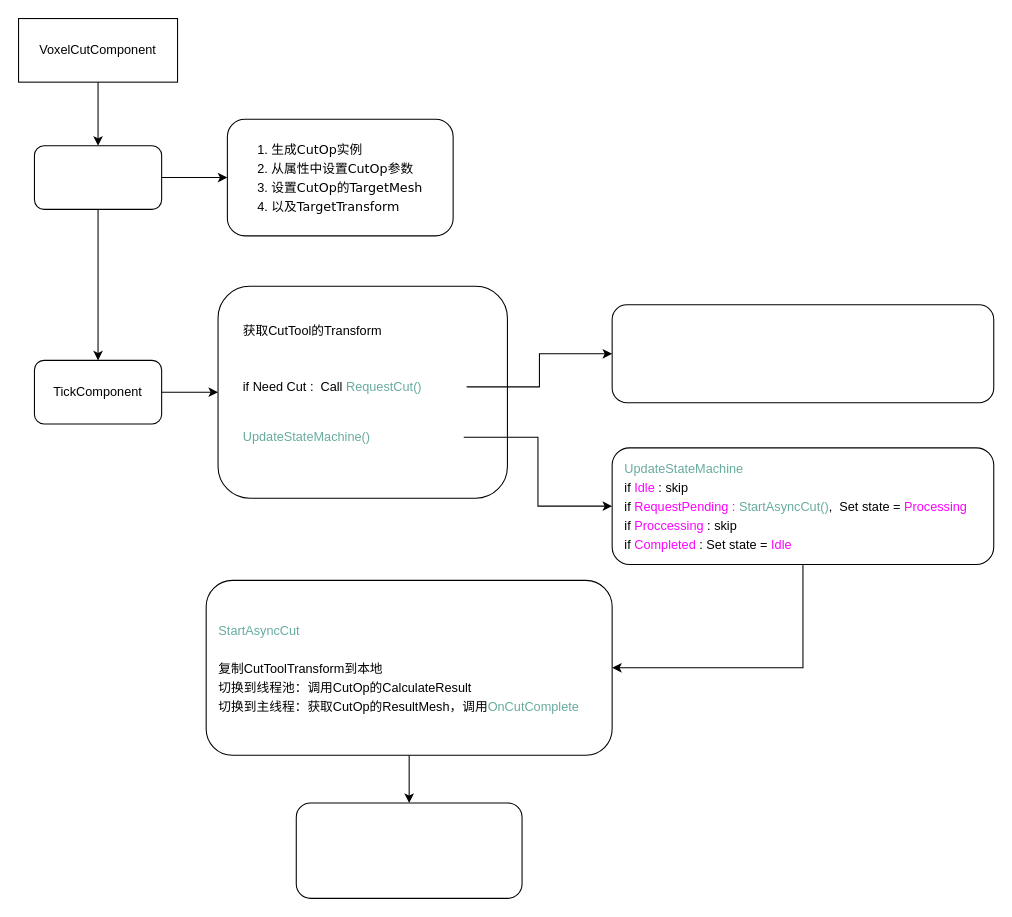
Some shapes in this 1012 by 917 pixel diagram are drawn without their labels. Each missing label, with the centre of its shape:
"InitializeCutSystem" goes at (97,177).
"OnCutComplete 更新TargetMesh Set State = Completed" goes at (408,850).
"RequestCut if Idle || Completed : Set state = RequestPending" goes at (802,353).
